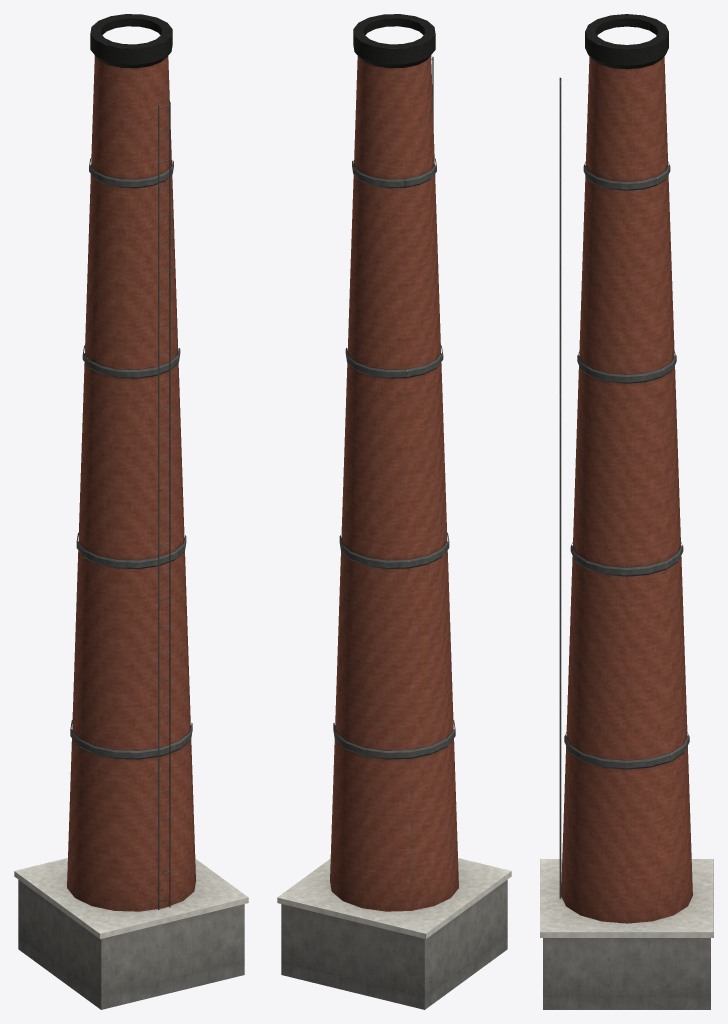
Rendered from chimney.glb.
The picture shows the model from 3 angles, left to right: view 1: azimuth 30°, elevation 25°; view 2: azimuth 150°, elevation 25°; view 3: azimuth 270°, elevation 25°; orthographic projection.
Parts seen in each view (by area): view 1: chimney; view 2: chimney; view 3: chimney.
Part boxes in pixels (box(x1,y1,x2,y2)): chimney: box(14, 14, 248, 1009); chimney: box(277, 14, 511, 1009); chimney: box(540, 14, 713, 1009).
Bounding box in the file's own units: 5.8 × 34.7 × 5.8.
Materials: 1 (1 with a texture image).
